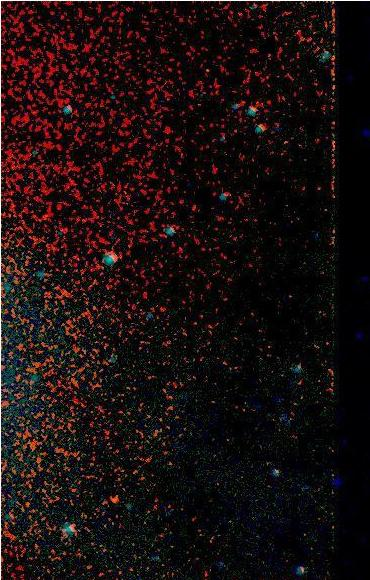star: (99, 482, 129, 512)
